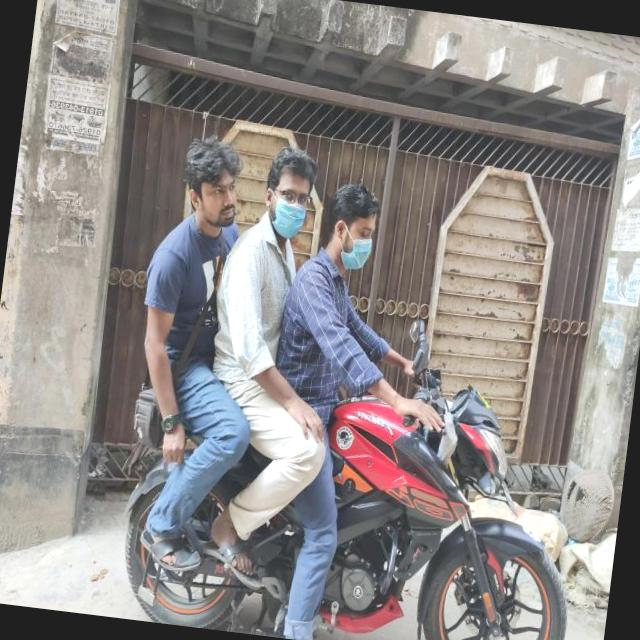motorcycle: (109, 335, 599, 640)
person: (246, 164, 398, 513), (191, 136, 323, 480), (116, 124, 254, 453)
rider_region: (103, 123, 617, 640)
